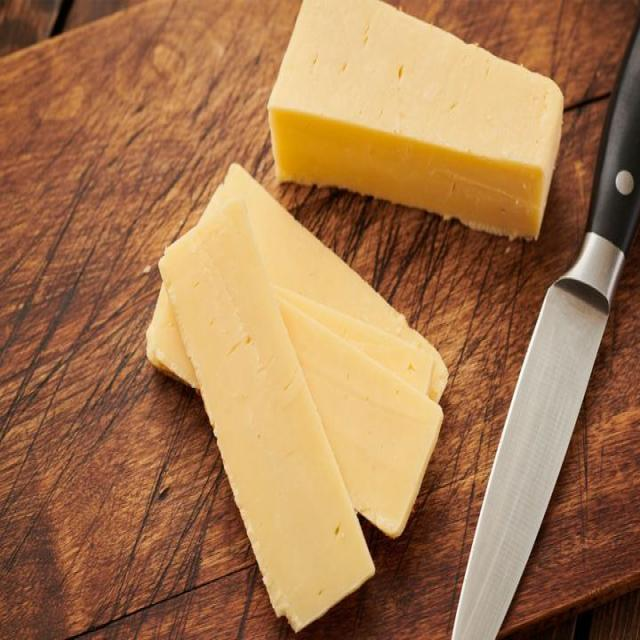Cheese: (141, 167, 456, 518), (156, 208, 372, 628), (267, 0, 568, 253)
